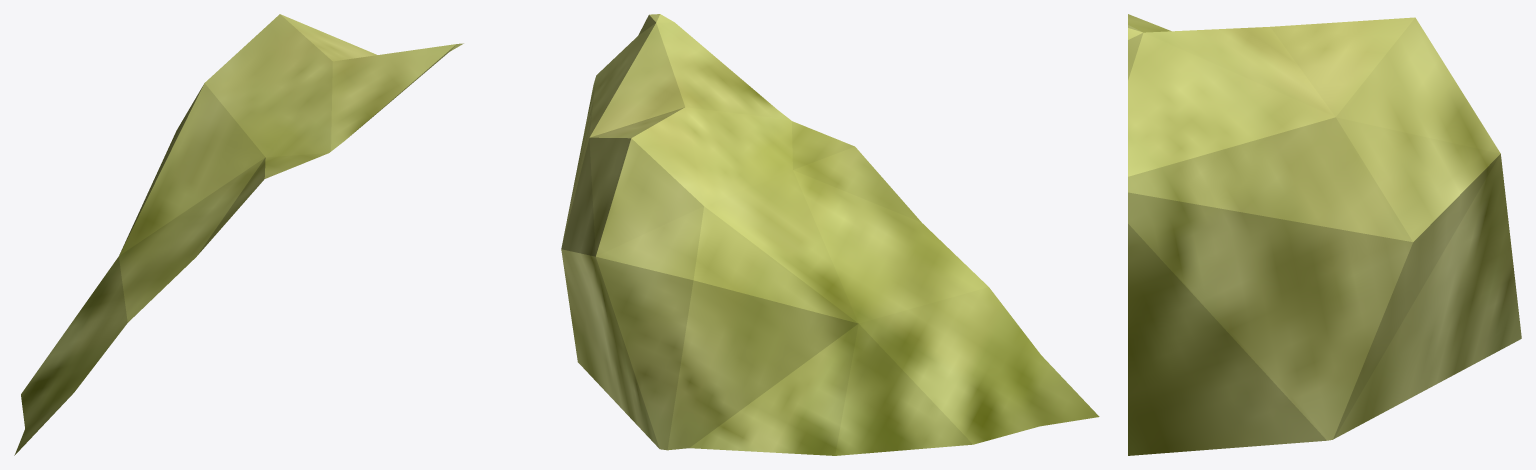
3 views of the same model, side by side, from view 1: azimuth 30°, elevation 25°; view 2: azimuth 150°, elevation 25°; view 3: azimuth 270°, elevation 25° (orthographic). The views are drawn at different scales.
Bounding box in the file's own units: 0.5345 × 0.2984 × 0.2619.
Materials: 1 (1 with a texture image).
